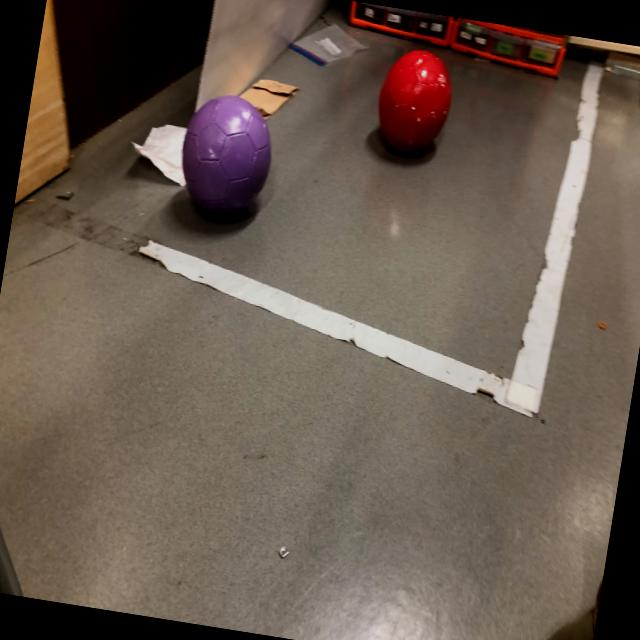purple_ball: (172, 90, 282, 226)
red_ball: (371, 42, 459, 160)
